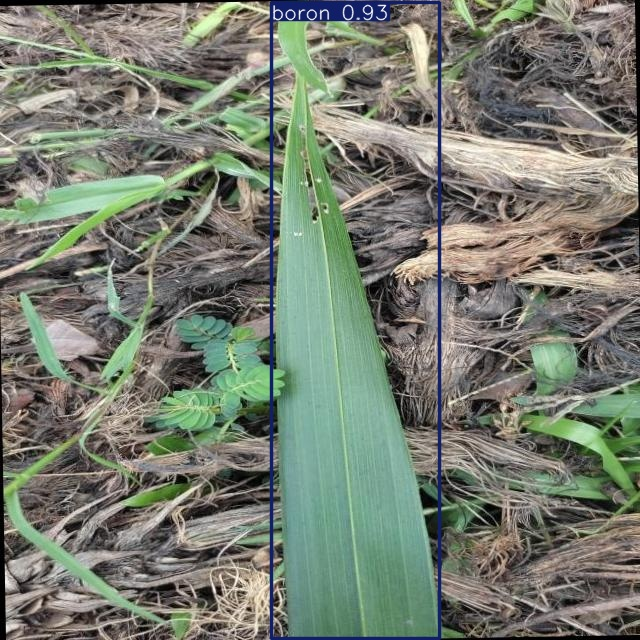nitrogen: (272, 3, 440, 639)
